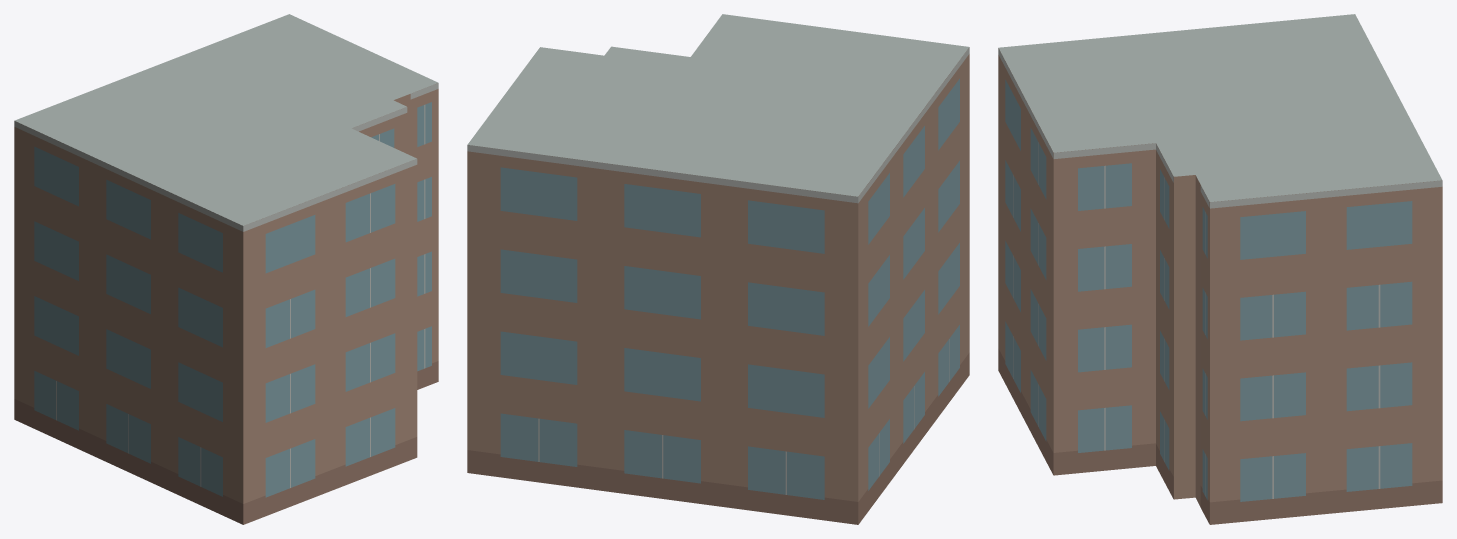
Rendered from residential-970edd49-fef5-4b9d-8242-06db2bfd9da3.glb.
The picture shows the model from 3 angles, left to right: view 1: azimuth 30°, elevation 25°; view 2: azimuth 150°, elevation 25°; view 3: azimuth 270°, elevation 25°; orthographic projection. The views are drawn at different scales.
Parts seen in each view (by area): view 1: residential-970edd49-fef5-4b9d-8242-06db2bfd9da3.tmp; view 2: residential-970edd49-fef5-4b9d-8242-06db2bfd9da3.tmp; view 3: residential-970edd49-fef5-4b9d-8242-06db2bfd9da3.tmp.
Part boxes in pixels (box(x1,y1,x2,y2)): residential-970edd49-fef5-4b9d-8242-06db2bfd9da3.tmp: box(14, 14, 438, 524); residential-970edd49-fef5-4b9d-8242-06db2bfd9da3.tmp: box(467, 14, 969, 524); residential-970edd49-fef5-4b9d-8242-06db2bfd9da3.tmp: box(998, 14, 1442, 524).
Size of the model in its own units: 15.26 by 12.2 by 15.23.
